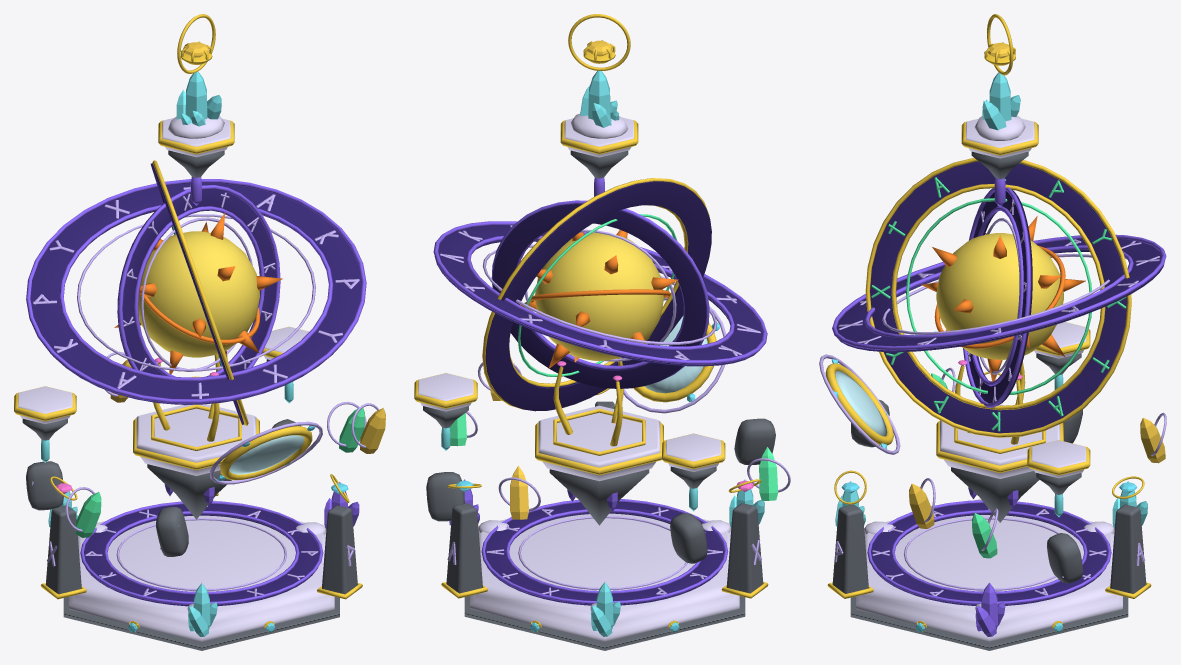
Rendered from HeatLamp_T4.fbx.
3 views of the same model, side by side, from view 1: azimuth 30°, elevation 25°; view 2: azimuth 150°, elevation 25°; view 3: azimuth 270°, elevation 25° (orthographic).
Visible parts, largest first — view 1: HeatLampT4Dais, HeatLampT4RingC, HeatLampT4OrbGlow, HeatLampT4RingA, HeatLampT4Island, HeatLampT4Obelisks, HeatLampT4Crown, HeatLampT4SideIslands, HeatLampT4ShardsGlow, HeatLampT4RingCGlow, HeatLampT4RuneStones, HeatLampT4LensGlow (+6 smaller); view 2: HeatLampT4Dais, HeatLampT4RingB, HeatLampT4OrbGlow, HeatLampT4RingC, HeatLampT4RingA, HeatLampT4Island, HeatLampT4Obelisks, HeatLampT4SideIslands, HeatLampT4RuneStones, HeatLampT4Crown, HeatLampT4ShardsGlow, HeatLampT4CrownGlow (+8 smaller); view 3: HeatLampT4Dais, HeatLampT4RingB, HeatLampT4OrbGlow, HeatLampT4RingC, HeatLampT4Island, HeatLampT4Obelisks, HeatLampT4RingA, HeatLampT4SideIslands, HeatLampT4Crown, HeatLampT4RingBGlow, HeatLampT4ShardsGlow, HeatLampT4LensGlow (+9 smaller).
Part boxes in pixels (x1=…): HeatLampT4Dais: x1=63, y1=500, x2=339, y2=650; HeatLampT4RingC: x1=26, y1=179, x2=366, y2=404; HeatLampT4OrbGlow: x1=114, y1=212, x2=282, y2=374; HeatLampT4RingA: x1=117, y1=185, x2=280, y2=405; HeatLampT4Island: x1=133, y1=354, x2=259, y2=519; HeatLampT4Obelisks: x1=40, y1=376, x2=362, y2=599; HeatLampT4Crown: x1=158, y1=14, x2=234, y2=177; HeatLampT4SideIslands: x1=14, y1=326, x2=308, y2=440; HeatLampT4ShardsGlow: x1=65, y1=351, x2=385, y2=537; HeatLampT4RingCGlow: x1=33, y1=184, x2=359, y2=398; HeatLampT4RuneStones: x1=26, y1=419, x2=300, y2=556; HeatLampT4LensGlow: x1=210, y1=421, x2=322, y2=484; HeatLampT4Dais: x1=464, y1=499, x2=745, y2=650; HeatLampT4RingB: x1=482, y1=178, x2=711, y2=411; HeatLampT4OrbGlow: x1=520, y1=230, x2=678, y2=368; HeatLampT4RingC: x1=433, y1=221, x2=767, y2=366; HeatLampT4RingA: x1=491, y1=200, x2=709, y2=388; HeatLampT4Island: x1=535, y1=357, x2=663, y2=525; HeatLampT4Obelisks: x1=441, y1=388, x2=768, y2=598; HeatLampT4SideIslands: x1=414, y1=373, x2=725, y2=488; HeatLampT4RuneStones: x1=426, y1=418, x2=775, y2=563; HeatLampT4Crown: x1=560, y1=14, x2=638, y2=178; HeatLampT4ShardsGlow: x1=450, y1=362, x2=790, y2=519; HeatLampT4CrownGlow: x1=580, y1=40, x2=619, y2=196; HeatLampT4Dais: x1=850, y1=499, x2=1128, y2=650; HeatLampT4RingB: x1=865, y1=158, x2=1131, y2=437; HeatLampT4OrbGlow: x1=921, y1=216, x2=1085, y2=381; HeatLampT4RingC: x1=832, y1=234, x2=1166, y2=352; HeatLampT4Island: x1=936, y1=361, x2=1063, y2=522; HeatLampT4Obelisks: x1=827, y1=372, x2=1151, y2=598; HeatLampT4RingA: x1=963, y1=187, x2=1032, y2=407; HeatLampT4SideIslands: x1=1027, y1=322, x2=1090, y2=494; HeatLampT4Crown: x1=961, y1=14, x2=1038, y2=179; HeatLampT4RingBGlow: x1=871, y1=177, x2=1126, y2=431; HeatLampT4ShardsGlow: x1=909, y1=367, x2=1166, y2=558; HeatLampT4LensGlow: x1=819, y1=354, x2=900, y2=454.
Size of the model in its own units: 226 by 375 by 209.
